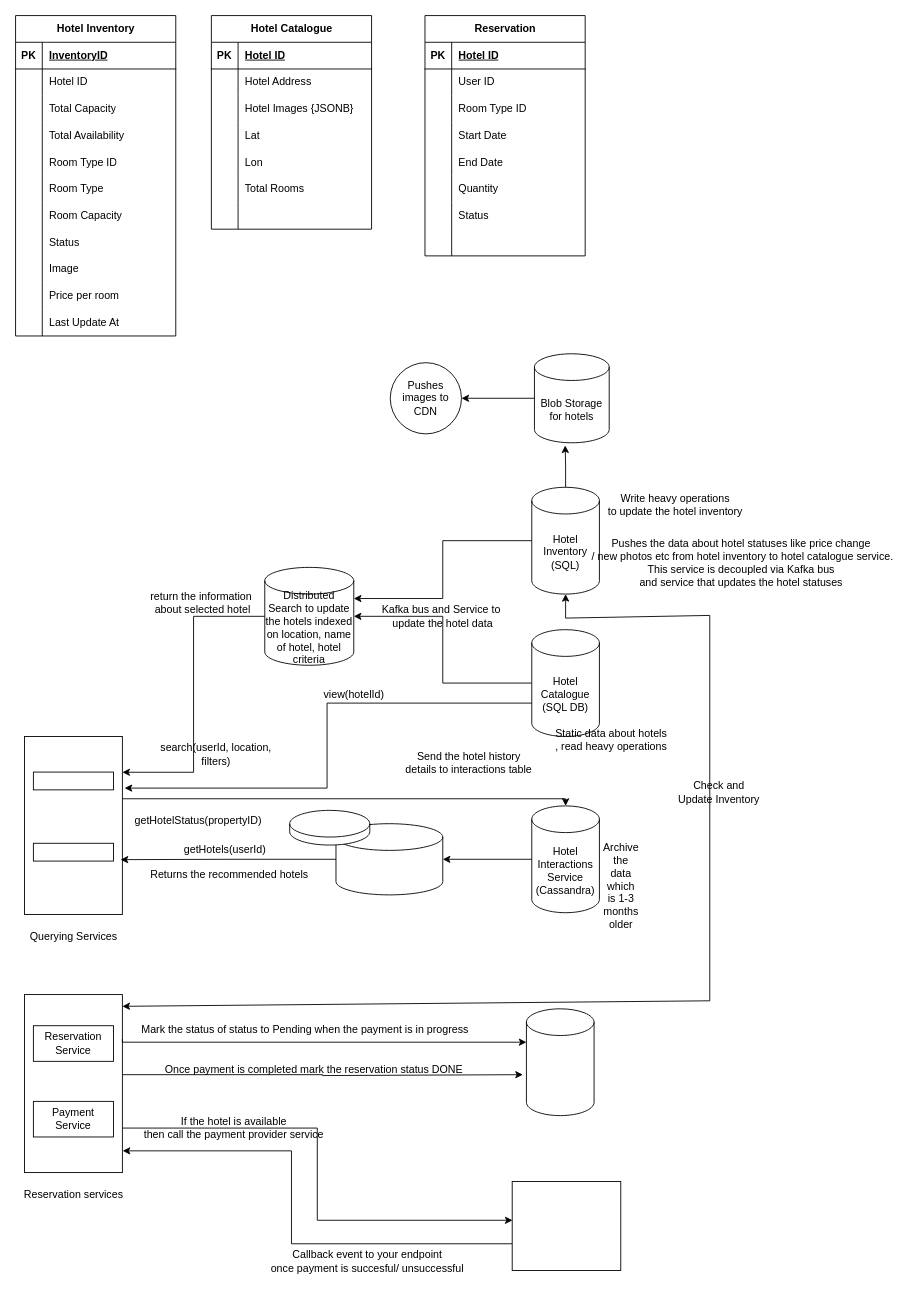
The diagram is 921 pixels wide and 1295 high, and some of its shapes have lost their labels. Each missing label, with the centre of its shape:
Hotel Reservation DB (MYSQL): (x=560, y=1062)
Layer of Cache: (x=329, y=827)
Listing Service: (x=72, y=851)
Recommendation and Ranking of Hotels: (x=389, y=859)
Search Service: (x=72, y=780)
Third party payment gateway: (x=566, y=1225)
